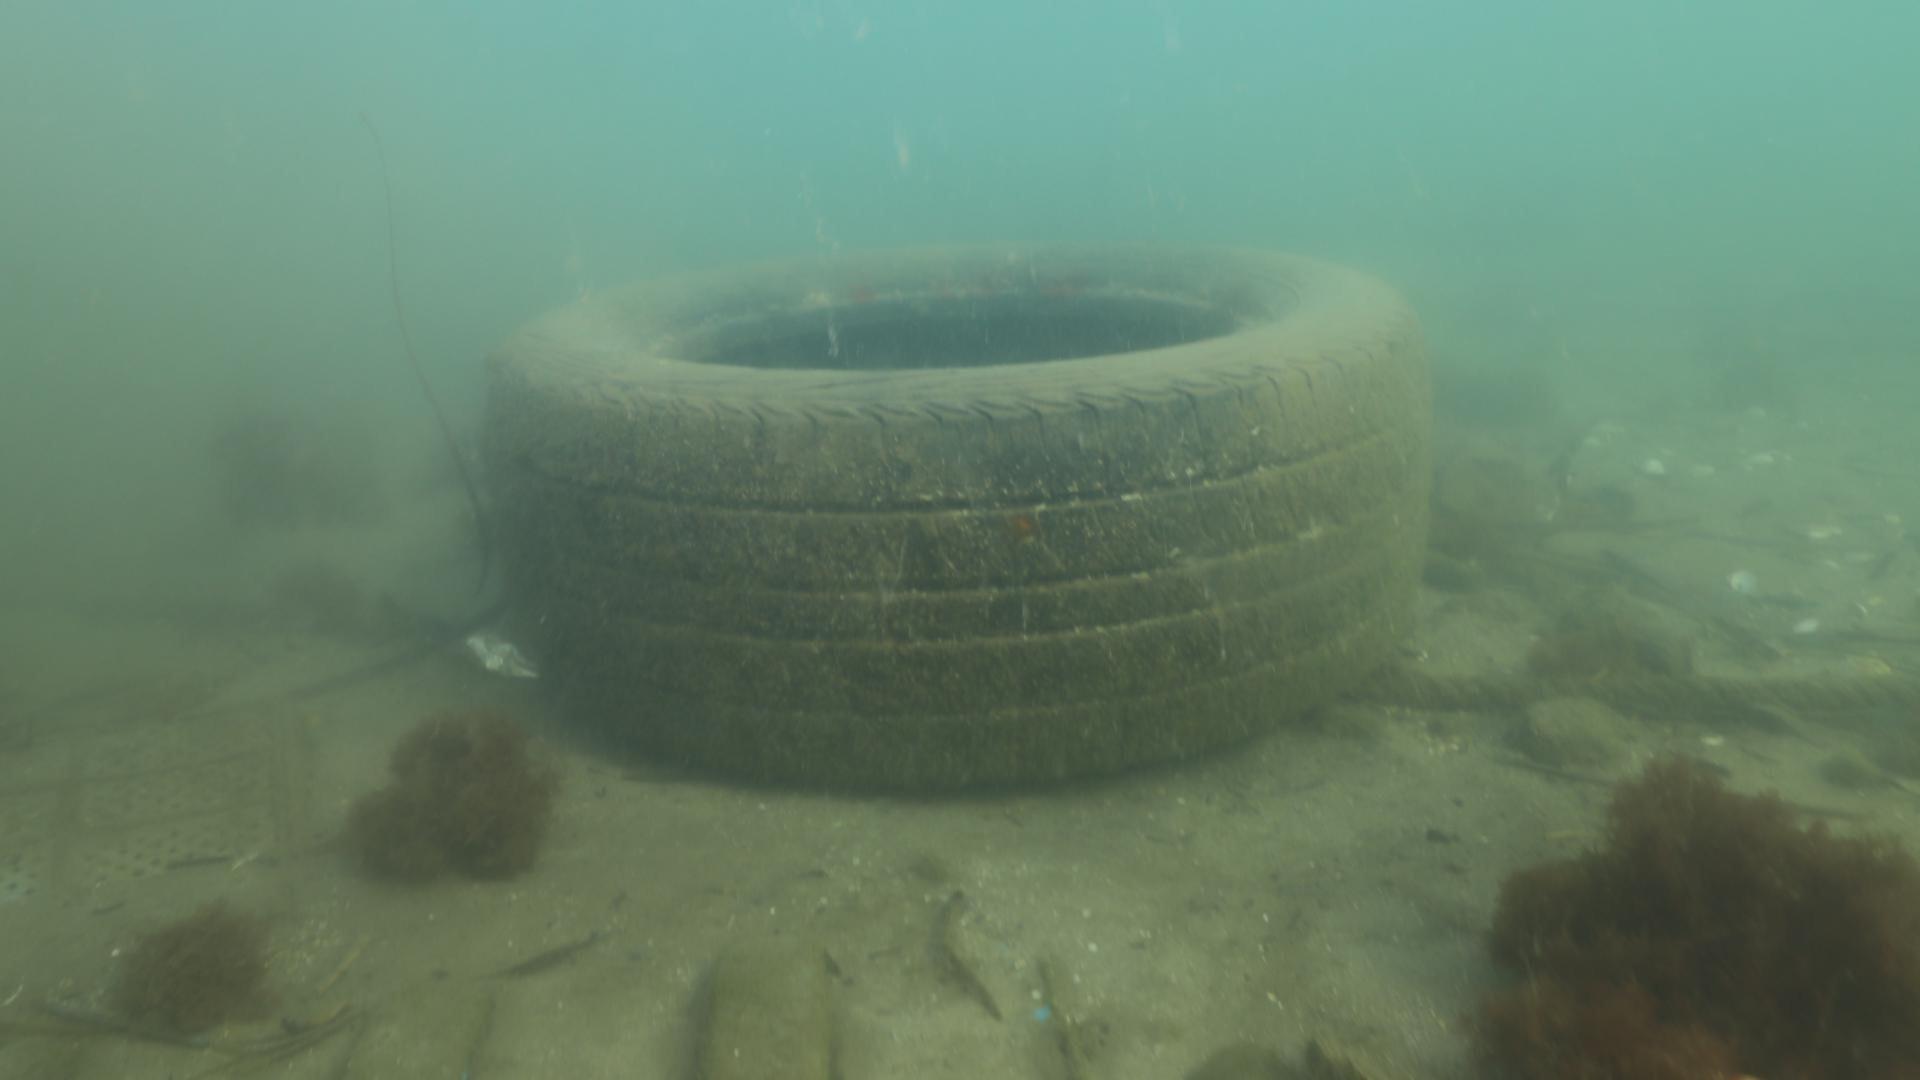rope: (1342, 658, 1920, 708)
tire: (480, 241, 1427, 796)
